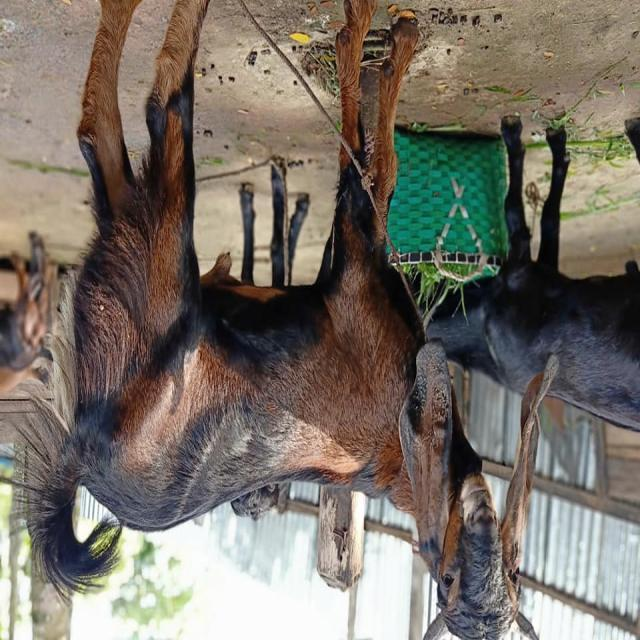Goat: (8, 2, 545, 639), (424, 115, 640, 436), (201, 158, 312, 523)
